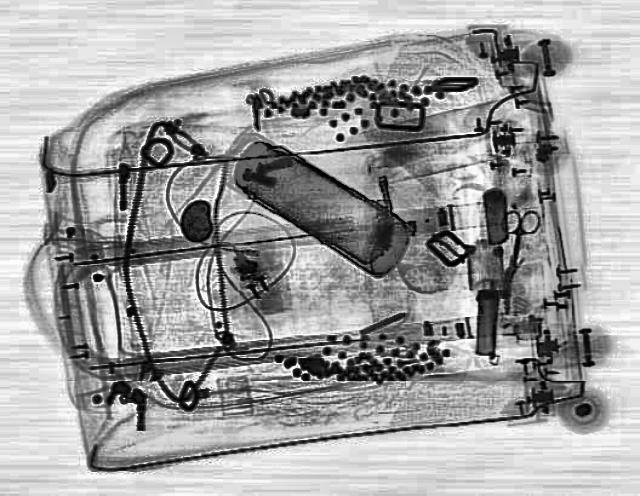Scissors: (492, 209, 542, 269)
